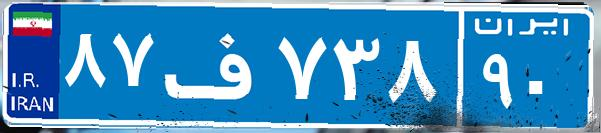0: (525, 38, 570, 115)
3: (330, 28, 385, 110)
7: (273, 28, 330, 110), (110, 28, 158, 105)
8: (385, 28, 445, 110), (57, 26, 110, 107)
9: (475, 38, 525, 113)
ف: (158, 15, 273, 115)
